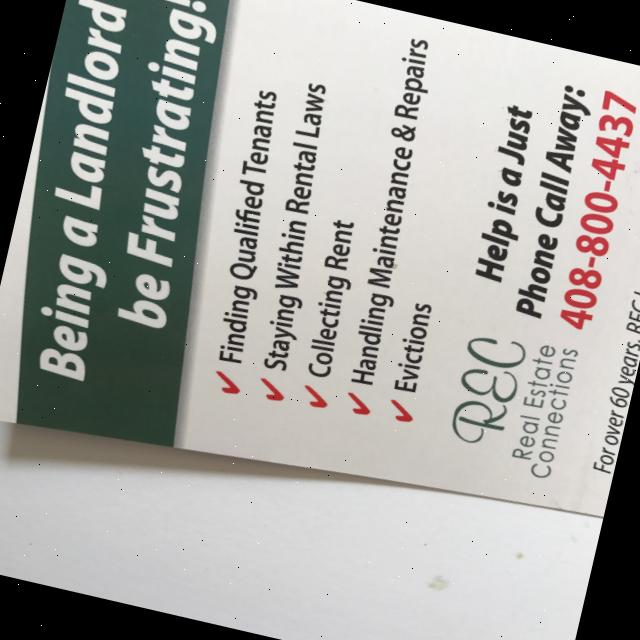paper: (0, 0, 640, 558)
